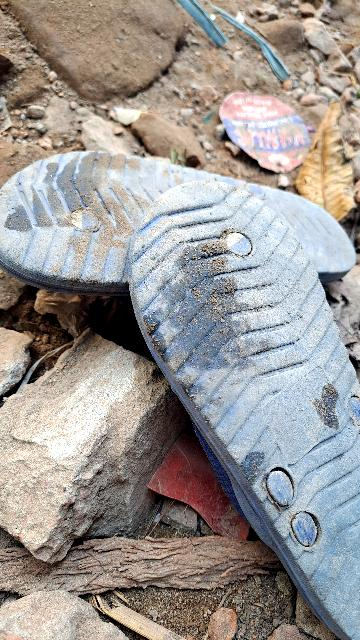sandal: (89, 127, 360, 640), (0, 132, 360, 335)
